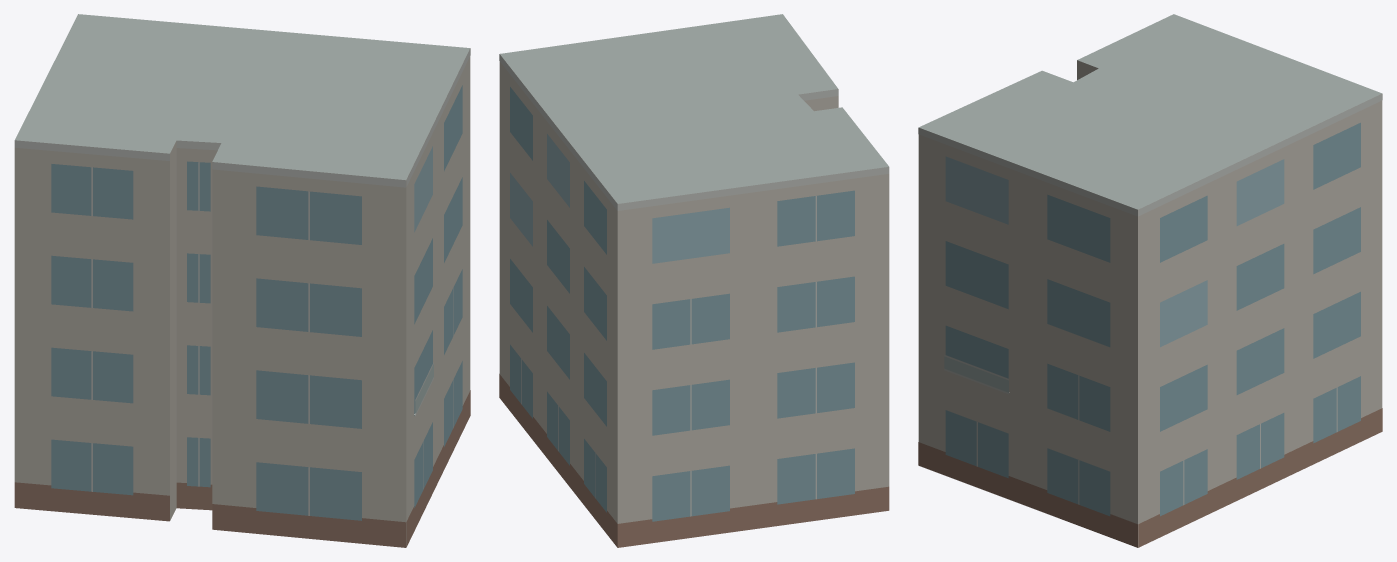
Rendered from survey-upis-32539221.glb.
3 renders of one model, left to right at view 1: azimuth 30°, elevation 25°; view 2: azimuth 150°, elevation 25°; view 3: azimuth 270°, elevation 25°, orthographic. The views are drawn at different scales.
Visible parts, largest first — view 1: survey-upis-32539221.tmp; view 2: survey-upis-32539221.tmp; view 3: survey-upis-32539221.tmp.
Boxes of the visible parts, bbox=[...] form: survey-upis-32539221.tmp: bbox=[14, 14, 470, 547]; survey-upis-32539221.tmp: bbox=[499, 14, 889, 547]; survey-upis-32539221.tmp: bbox=[918, 14, 1382, 547].
Size of the model in its own units: 14.91 by 12 by 14.93.
